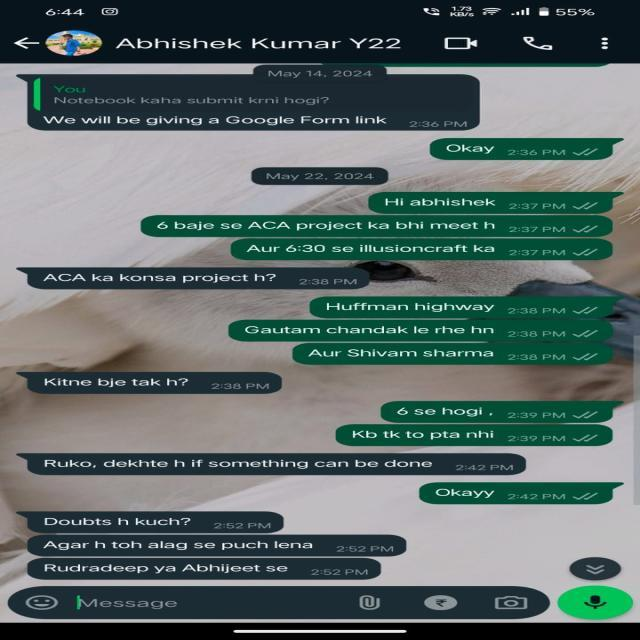scam: (32, 454, 446, 474), (36, 112, 397, 128), (32, 536, 321, 555), (34, 270, 300, 290), (36, 562, 306, 578), (38, 370, 204, 394), (32, 511, 206, 531)
